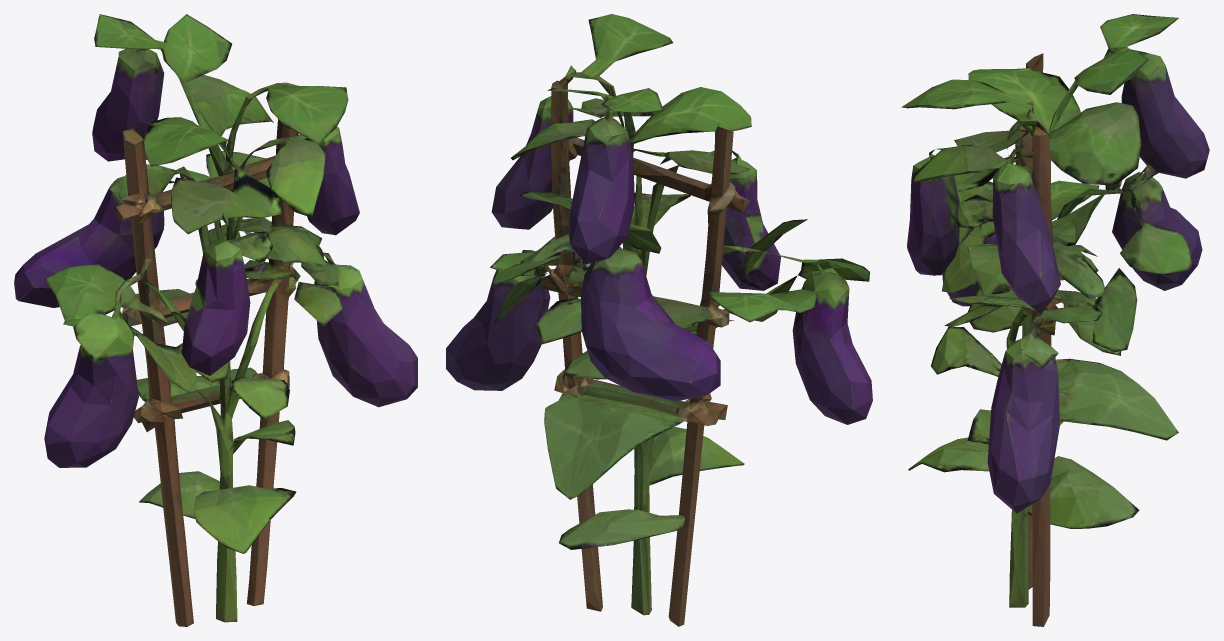
The model's file is P_Qiezi_03.obj.
3 views of the same model, side by side, from view 1: azimuth 30°, elevation 25°; view 2: azimuth 150°, elevation 25°; view 3: azimuth 270°, elevation 25° (orthographic).
Size of the model in its own units: 1.03 by 1.4 by 0.6945.
Materials: 1 (1 with a texture image).
